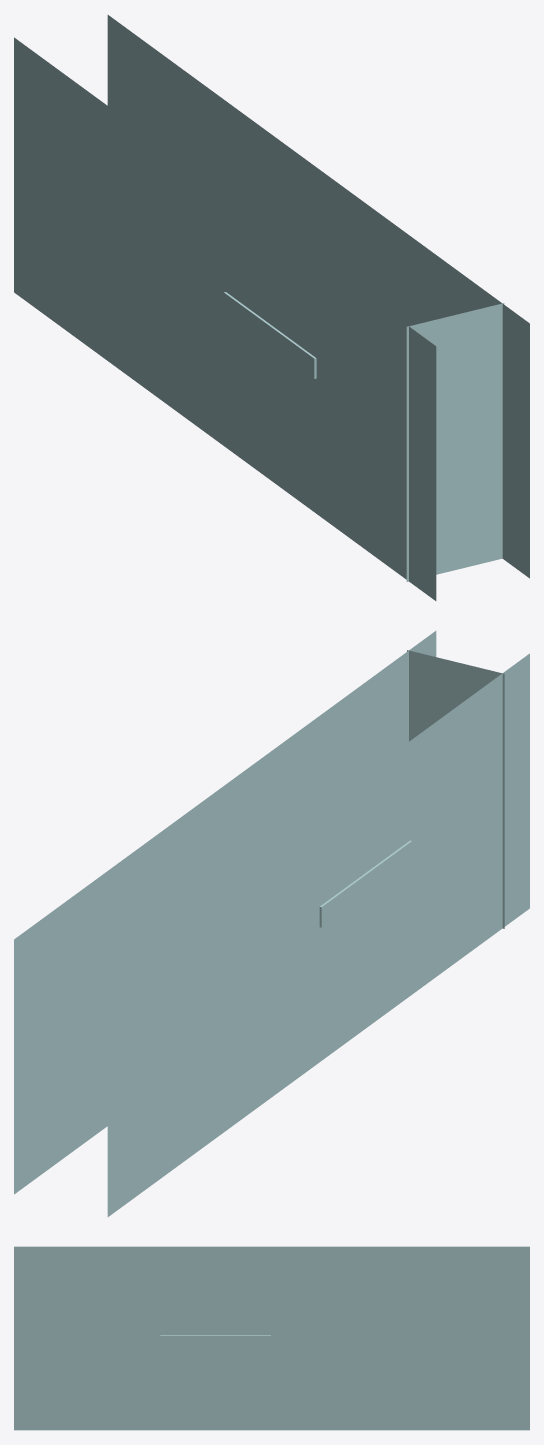
3 views of the same model, one above another, from view 1: azimuth 30°, elevation 25°; view 2: azimuth 150°, elevation 25°; view 3: azimuth 270°, elevation 25° (orthographic). The views are drawn at different scales.
Parts seen in each view (by area): view 1: Wall, Wall__3_, Wall__2_, Cube; view 2: Wall, Wall__3_, Wall__2_, Cube; view 3: Wall__3_, Wall, Cube.
Part boxes in pixels (x1,y1,x2,y2): Wall: (14,37,436,600); Wall__3_: (107,15,529,578); Wall__2_: (406,303,504,581); Cube: (223,292,316,378); Wall: (107,653,529,1216); Wall__3_: (14,631,436,1194); Wall__2_: (407,650,504,928); Cube: (319,840,412,927); Wall__3_: (14,1274,529,1430); Wall: (14,1246,529,1274); Cube: (160,1335,270,1348).
Bounding box in the file's own units: 4000 × 10000 × 30000.
